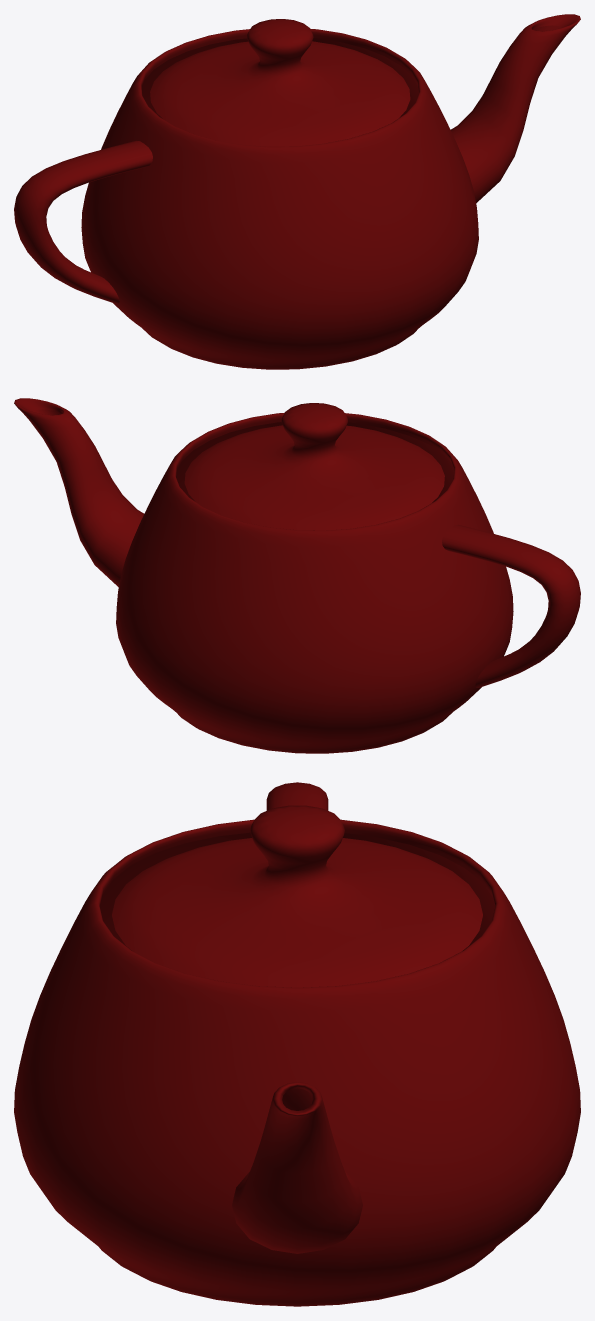
File: UtahTeapotPhongTextured.dae
3 renders of one model, top to bottom at view 1: azimuth 30°, elevation 25°; view 2: azimuth 150°, elevation 25°; view 3: azimuth 270°, elevation 25°, orthographic. The views are drawn at different scales.
Visible parts, largest first — view 1: Utah_Teapot; view 2: Utah_Teapot; view 3: Utah_Teapot.
Part boxes in pixels (x1=…): Utah_Teapot: x1=14, y1=14, x2=580, y2=369; Utah_Teapot: x1=14, y1=398, x2=580, y2=753; Utah_Teapot: x1=14, y1=782, x2=580, y2=1306.
Bounding box in the file's own units: 17.83 × 8.81 × 10.9.
